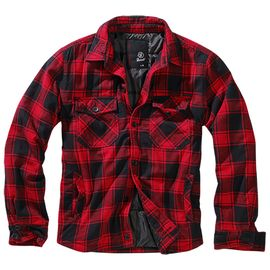squared: (3, 9, 266, 256)
